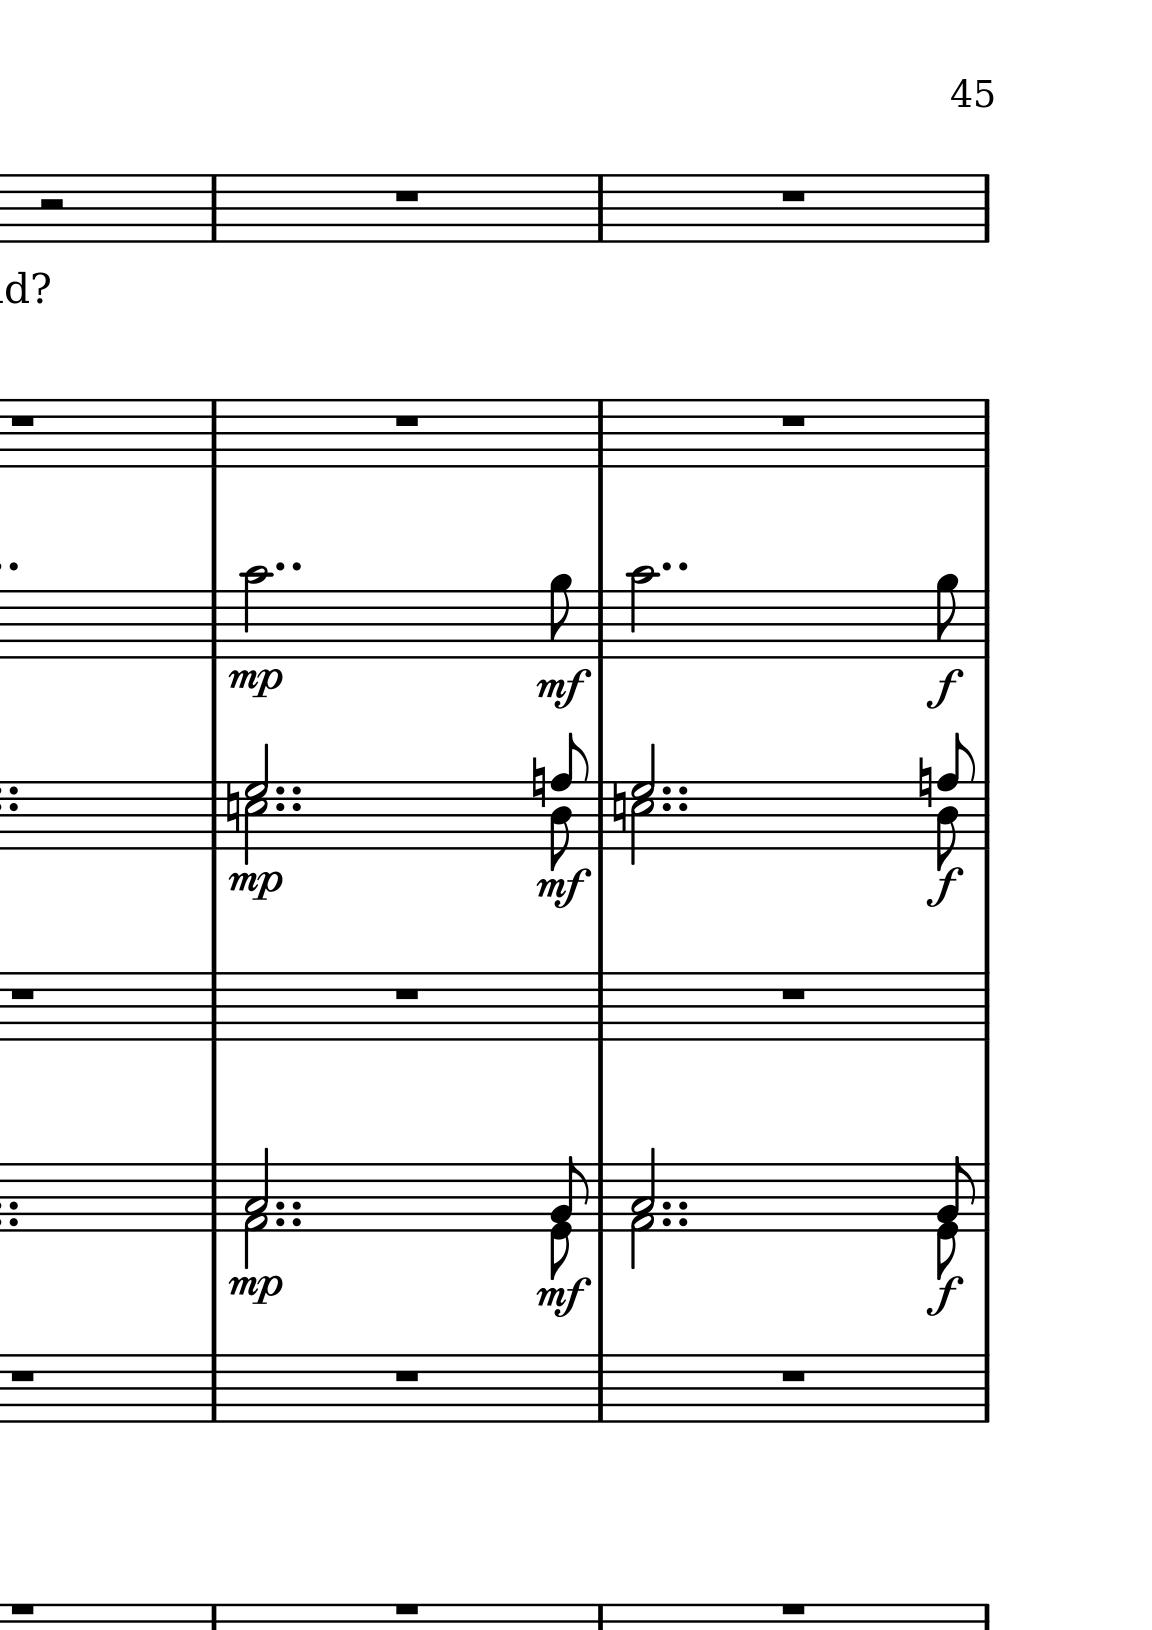2_10: (626, 565, 658, 660), (239, 565, 271, 658)
2_1_3: (244, 1148, 272, 1270), (630, 1146, 657, 1269)
2_5_7: (244, 744, 272, 866), (630, 741, 657, 864)
4: (950, 75, 972, 112)
5: (971, 74, 995, 111)
8_0_2: (936, 1158, 977, 1284), (549, 1155, 590, 1280)
8_4_8: (549, 732, 588, 869), (936, 736, 976, 872)
8_9: (549, 573, 574, 660), (935, 574, 960, 660)
Double_dot: (273, 558, 303, 576), (660, 1199, 693, 1214), (660, 783, 689, 798), (660, 560, 688, 574), (273, 1198, 302, 1213), (272, 1215, 303, 1229), (657, 1216, 694, 1227), (658, 800, 691, 813), (277, 783, 302, 798), (276, 800, 305, 813)
Natural: (529, 755, 549, 811), (916, 755, 935, 813), (611, 781, 628, 836), (224, 781, 239, 834)
Rests1: (4, 1599, 39, 1619), (775, 1600, 810, 1619), (6, 984, 39, 1004), (777, 984, 809, 1004), (390, 1366, 423, 1386), (777, 1366, 809, 1386), (390, 1600, 423, 1620), (778, 186, 809, 206), (390, 984, 421, 1004), (7, 411, 37, 431), (6, 1366, 37, 1385), (391, 187, 421, 206), (778, 412, 809, 430), (391, 412, 421, 430)
Rests2: (34, 194, 69, 216)
Single_barline: (588, 399, 612, 467), (201, 972, 224, 1041), (588, 972, 612, 1041), (201, 400, 224, 467), (201, 1355, 224, 1422), (588, 1355, 612, 1422), (588, 174, 611, 243), (974, 174, 996, 243), (202, 174, 224, 243), (202, 589, 224, 658), (588, 589, 611, 657), (588, 1163, 611, 1230), (202, 783, 224, 849), (975, 400, 996, 467), (203, 1164, 224, 1230), (976, 1164, 996, 1231), (976, 1355, 996, 1422), (976, 971, 995, 1041), (590, 781, 608, 850), (976, 591, 995, 658), (976, 783, 995, 849)
dot: (203, 1161, 224, 1231), (4, 557, 22, 574), (2, 783, 22, 798), (6, 800, 21, 813)
f: (924, 668, 964, 710), (925, 1275, 965, 1317), (925, 866, 964, 908)
mf: (534, 1275, 591, 1318), (535, 667, 591, 710), (534, 866, 590, 908)
mp: (224, 1270, 286, 1308), (226, 866, 284, 903), (227, 665, 284, 702)
